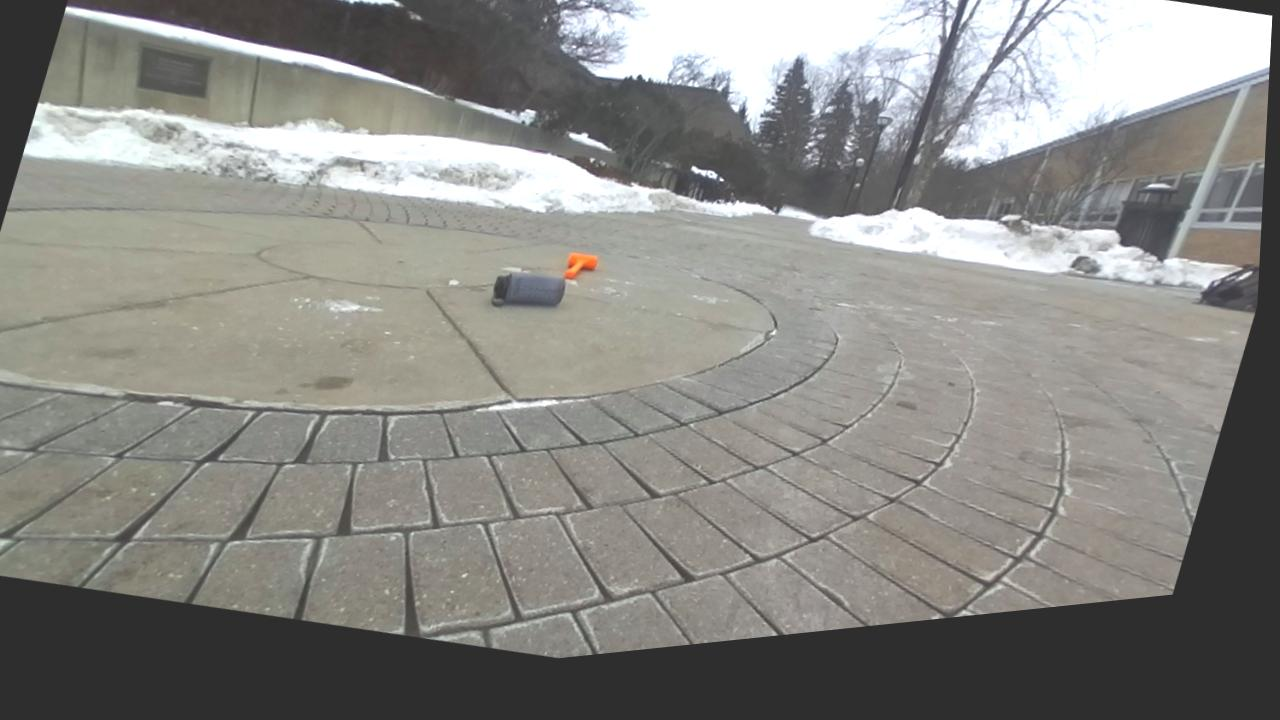bottle: (491, 273, 563, 306)
mallet: (565, 253, 596, 279)
